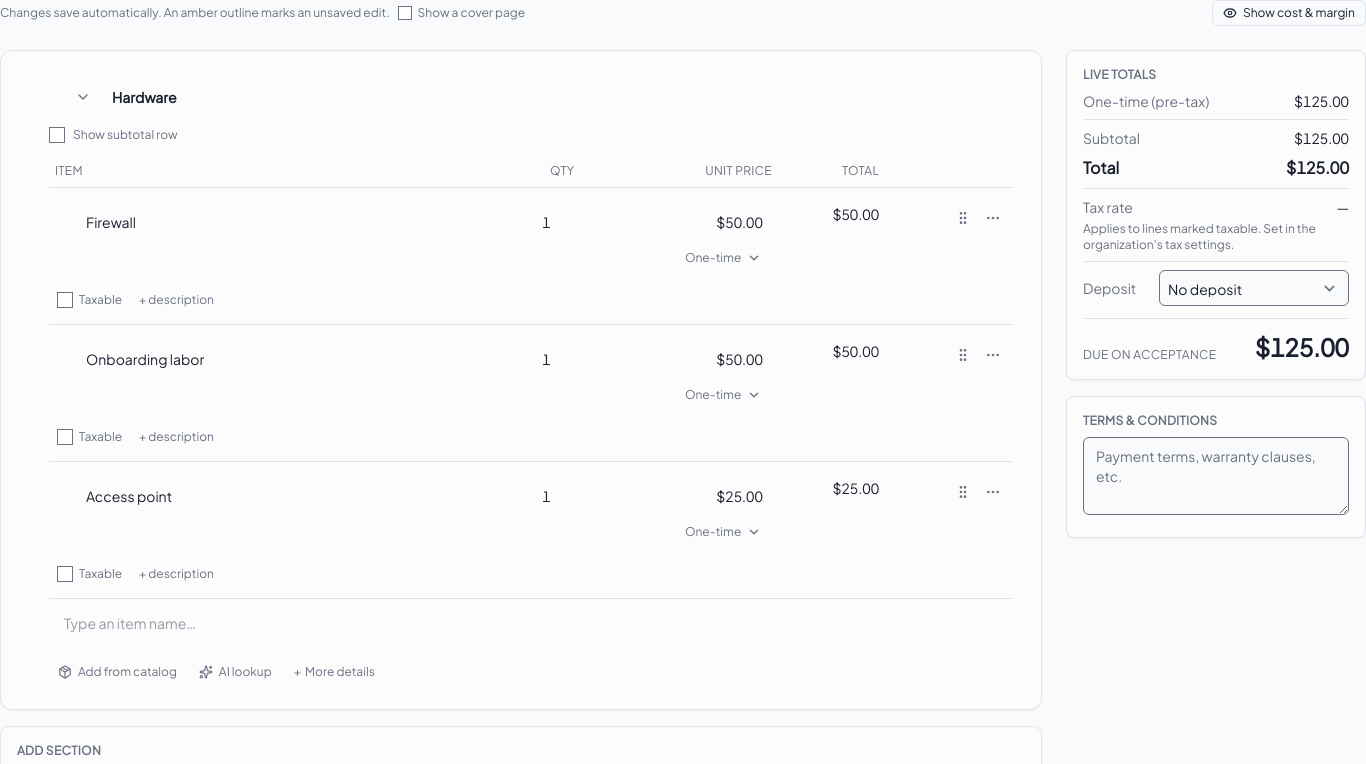
Test: QuoteEditor — bulk edit (Task D) › Escape on the bar clears the selection (closing an open value editor first); Clear selection clears too
Step 1. Click the checkbox with test id "quote-line-select-line-1" → [253, 222], box [55, 204, 450, 240]
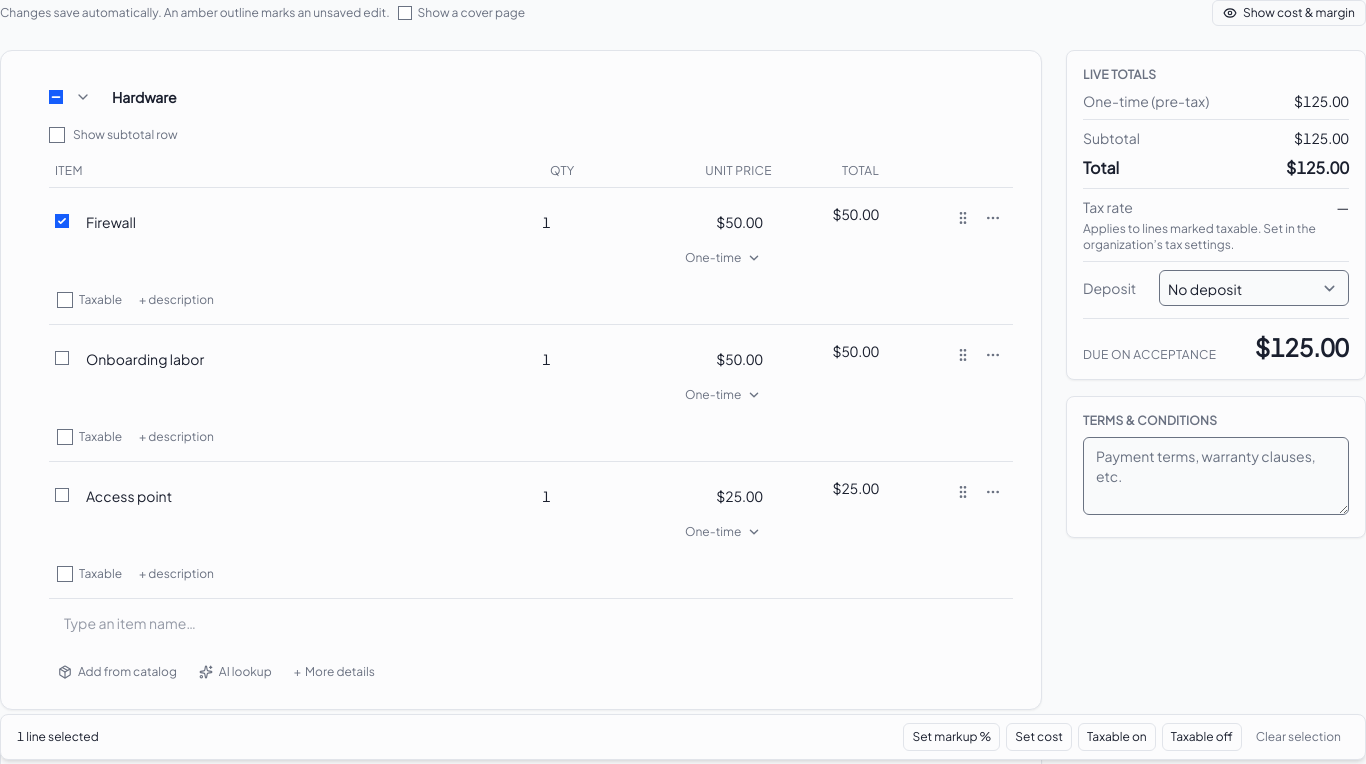
# With a value editor open, the first Escape only closes the editor.
Step 2. Click the button with test id "quote-bulk-set-markup" → [952, 737], box [903, 723, 1000, 751]
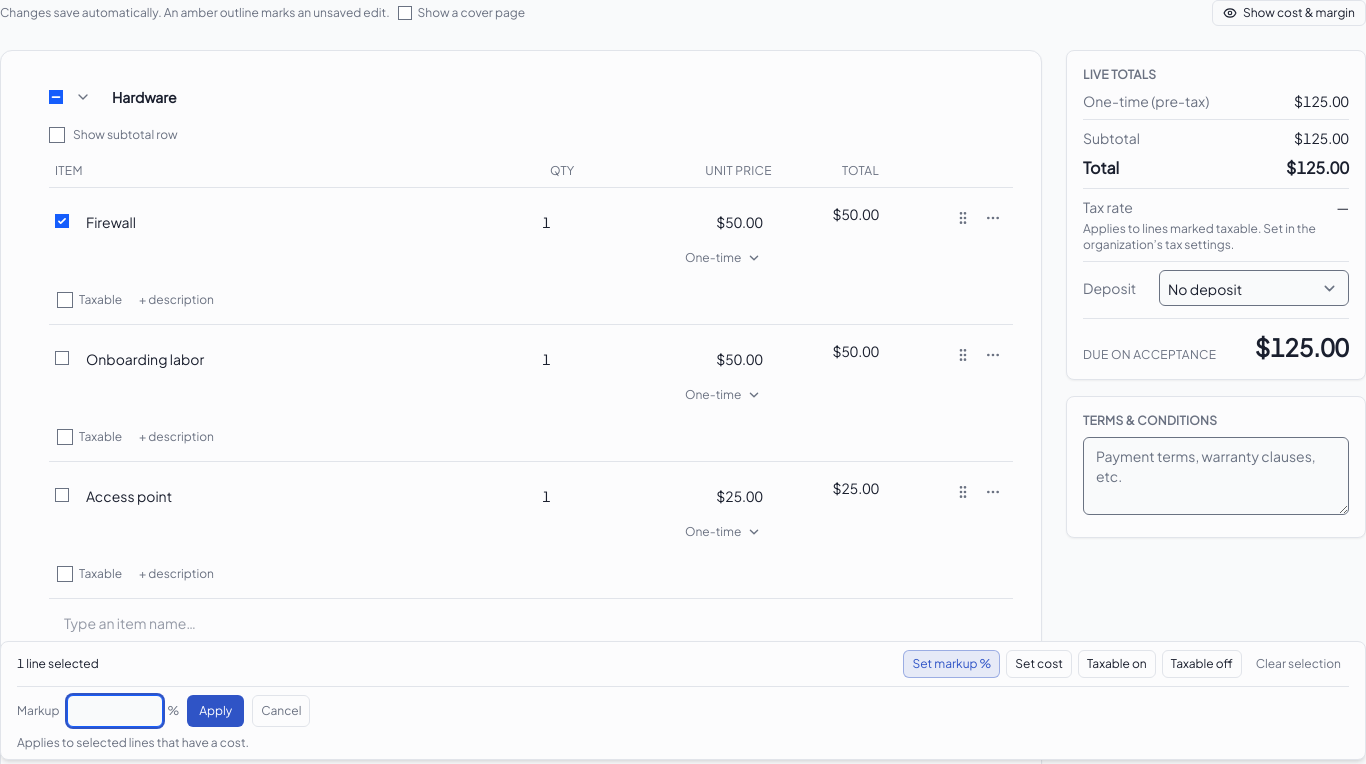
Result: the field with test id "quote-bulk-value" is shown at [67, 695, 163, 727]
Step 3. Press Escape in the element with test id "quote-bulk-bar", box [0, 641, 1365, 760]
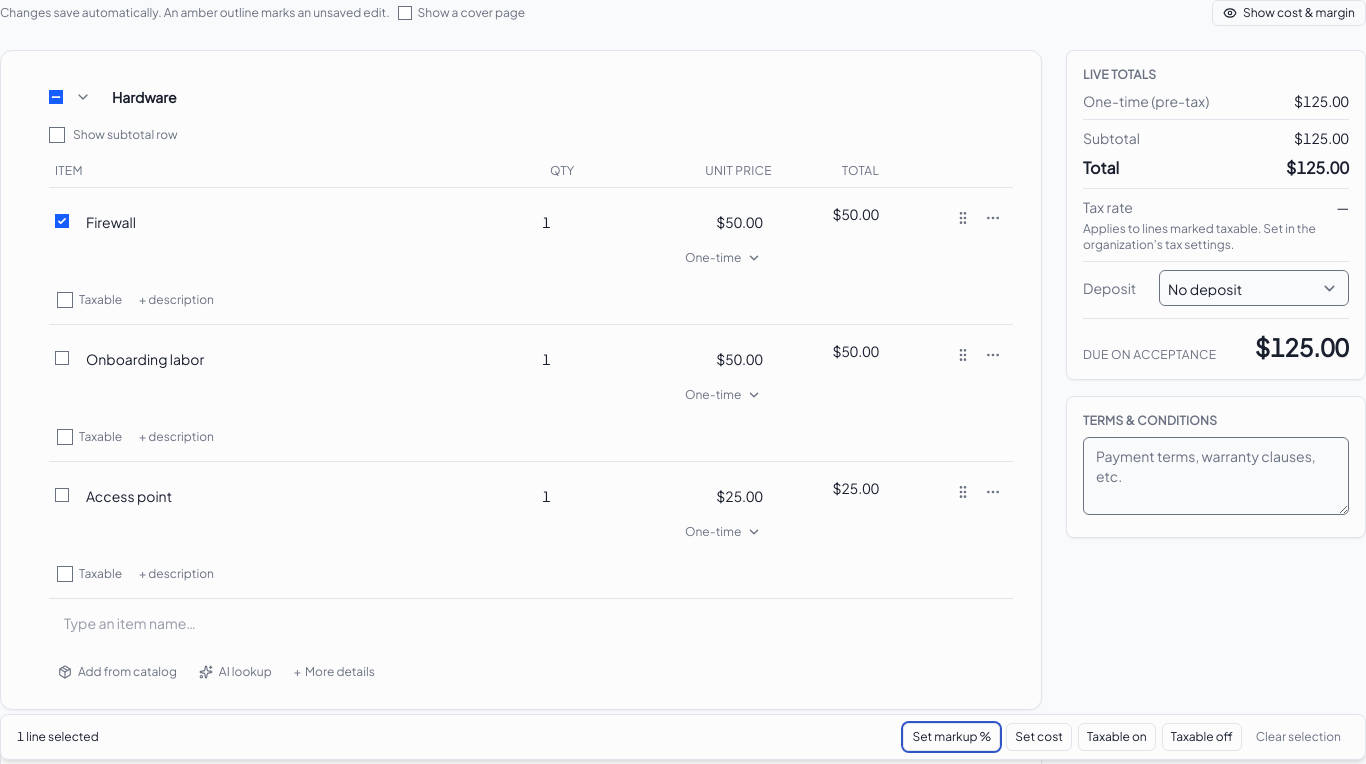
Result: the element with test id "quote-bulk-bar" is shown
Result: the label with test id "quote-bulk-value" is gone
# The next Escape empties the selection.
Step 4. Press Escape in the element with test id "quote-bulk-bar", box [0, 714, 1365, 760]
(page scrolled)
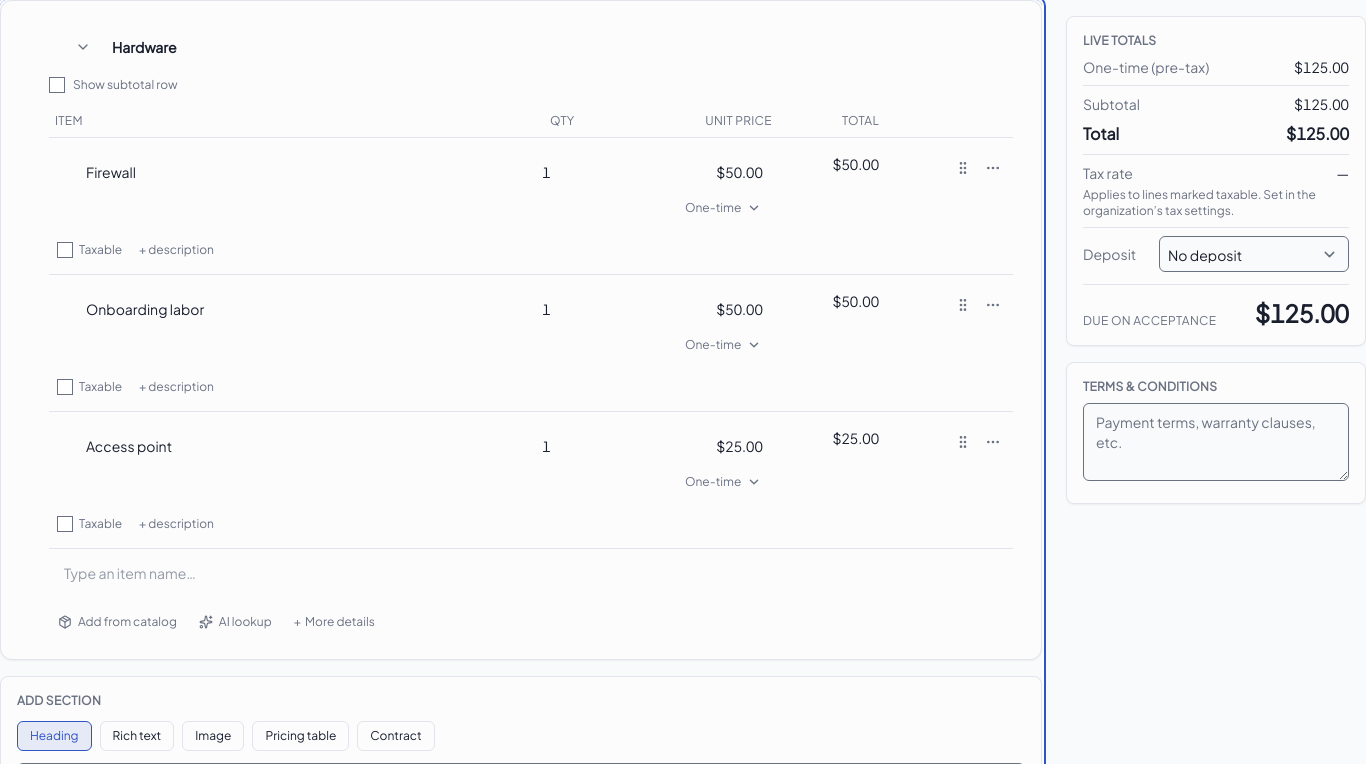
Result: the checkbox with test id "quote-line-select-line-1" is not checked
Result: the element with test id "quote-bulk-bar" is gone
# Clear selection button does the same.
Step 5. Click the checkbox with test id "quote-line-select-line-1" → [253, 172], box [55, 154, 450, 190]
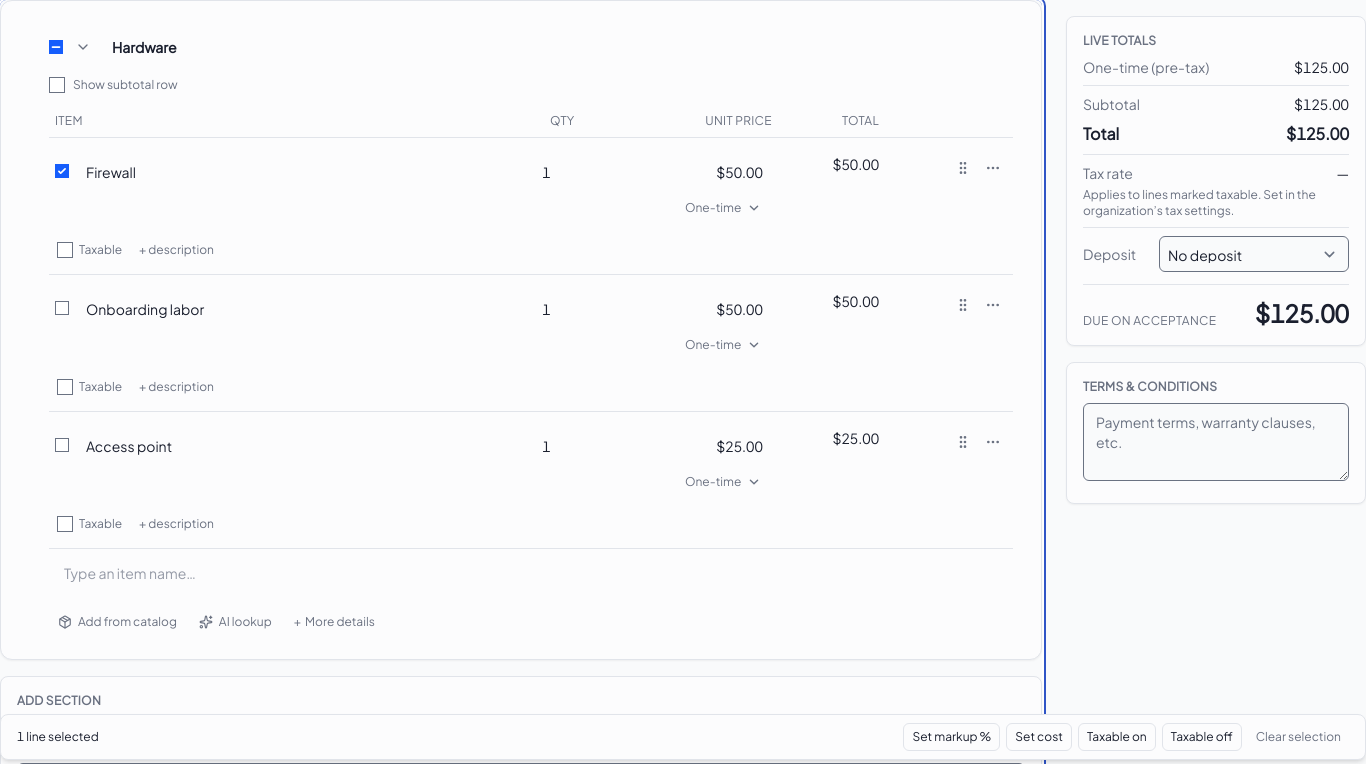
Step 6. Click the button with test id "quote-bulk-clear" → [1298, 737], box [1248, 723, 1349, 751]
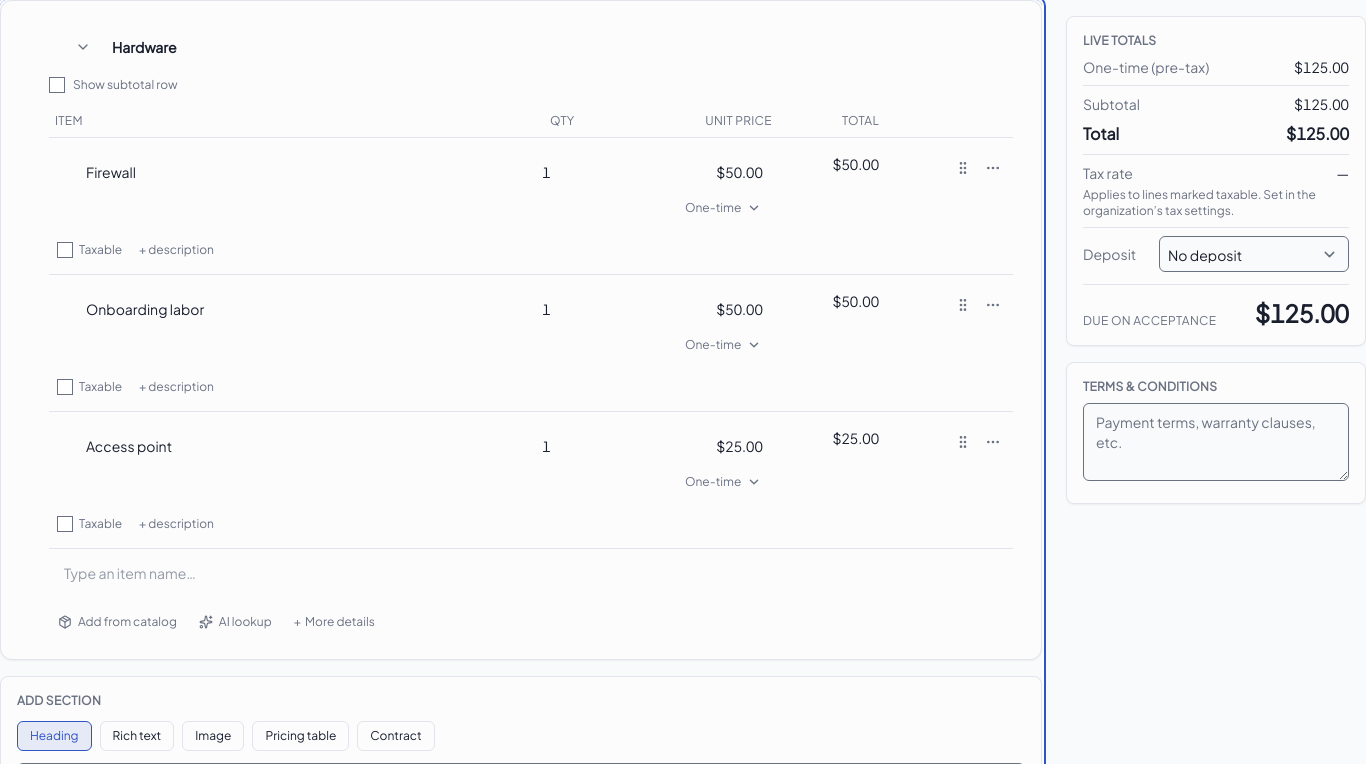
Result: the element with test id "quote-bulk-bar" is gone
